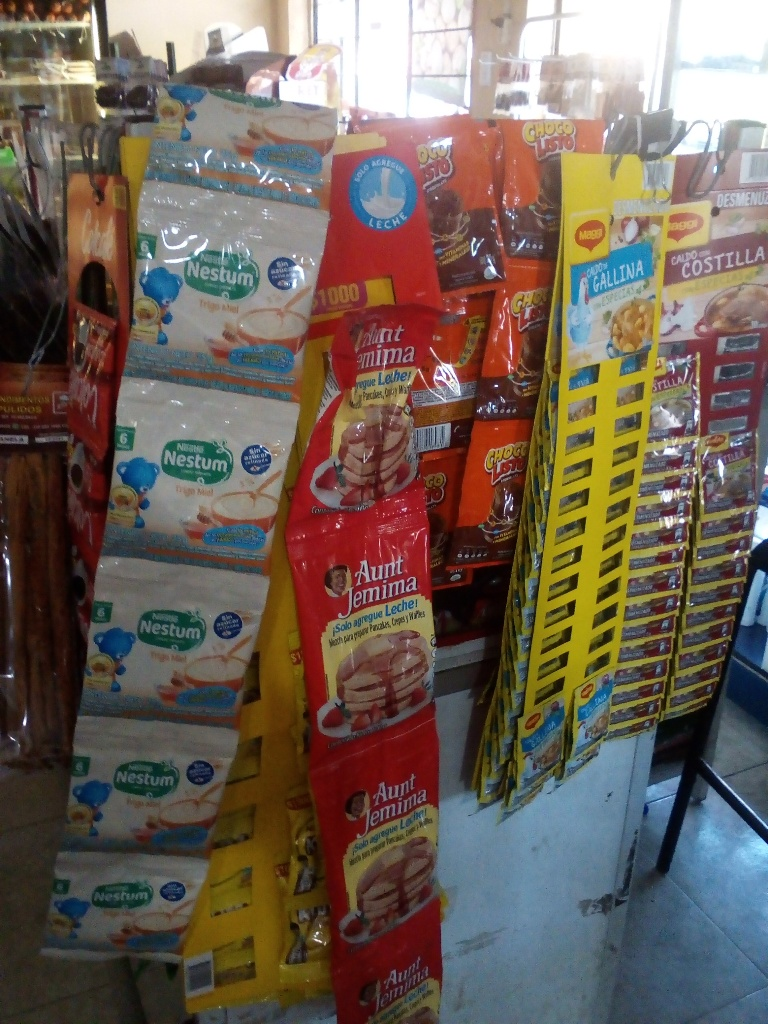COL0170103SOB02000: (422, 118, 507, 284)
